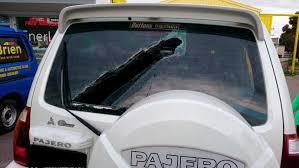Rear-windscreen-Damage: (51, 21, 268, 129)
